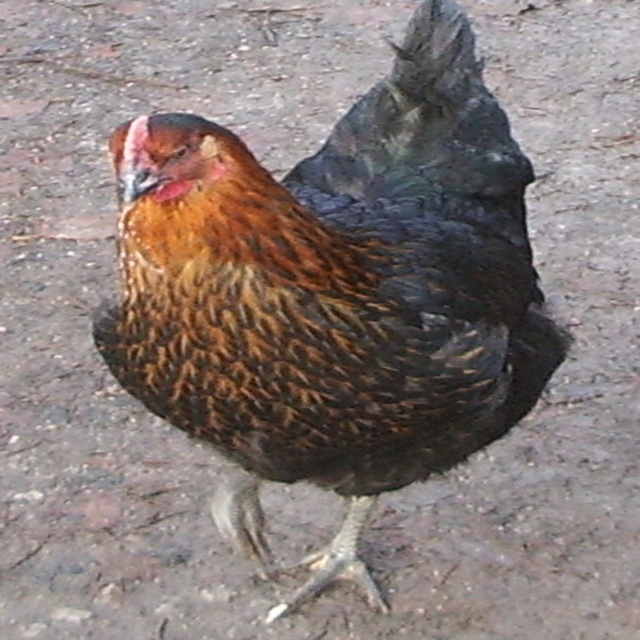Chicken: (92, 0, 575, 622)
